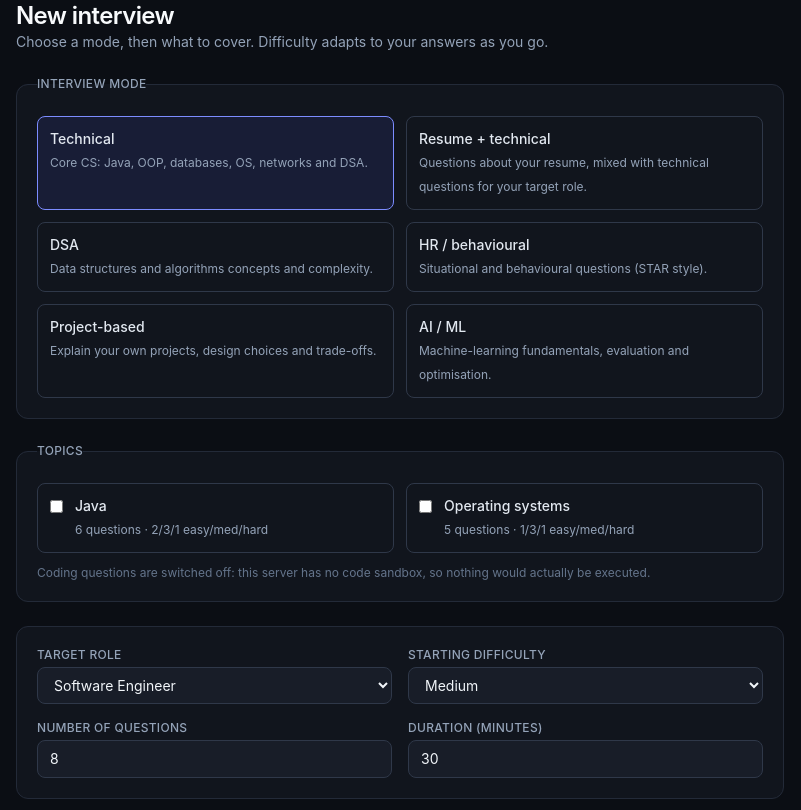
InterviewSetup › refuses a question count the selected topics cannot satisfy
Click the checkbox labelled "Java". click: (56, 506)
box: left=50, top=500, right=63, bottom=513
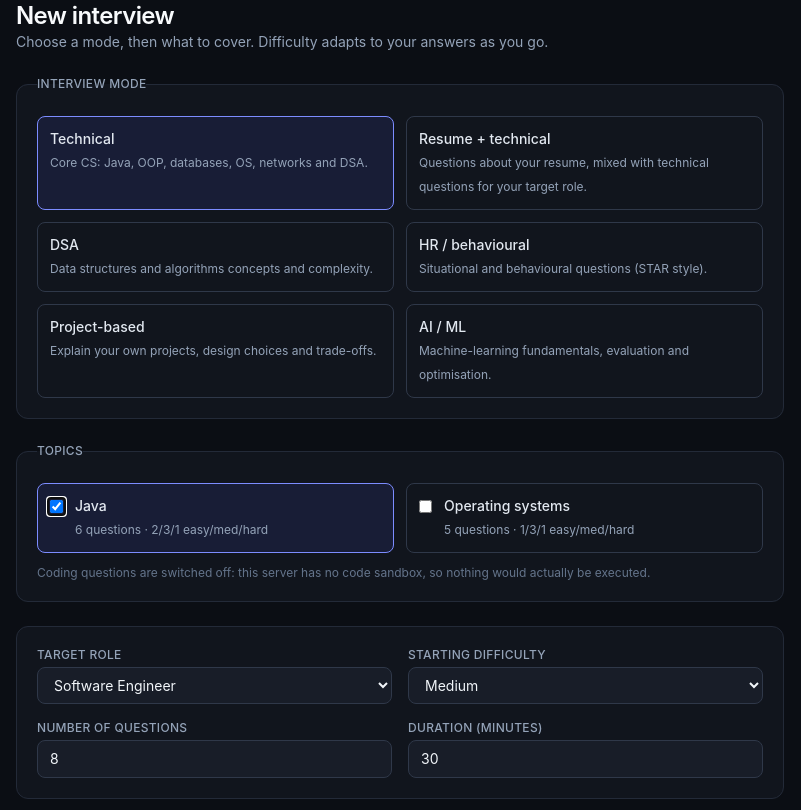
Replace the text in the number field labelled "Number of questions" with "20". click: (214, 759)
box: left=37, top=740, right=392, bottom=778
(page scrolled)
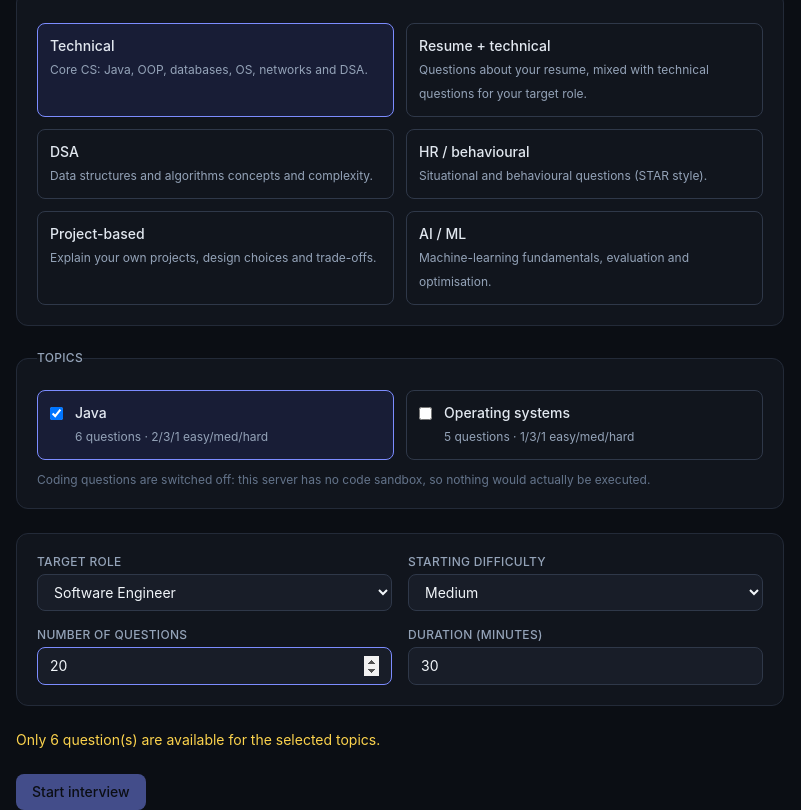
Check: the button "Start interview" is disabled, box left=16, top=774, right=146, bottom=809
Check: the text "Only 6 question(s) are available for the selected topics." is shown, box left=16, top=731, right=380, bottom=748
